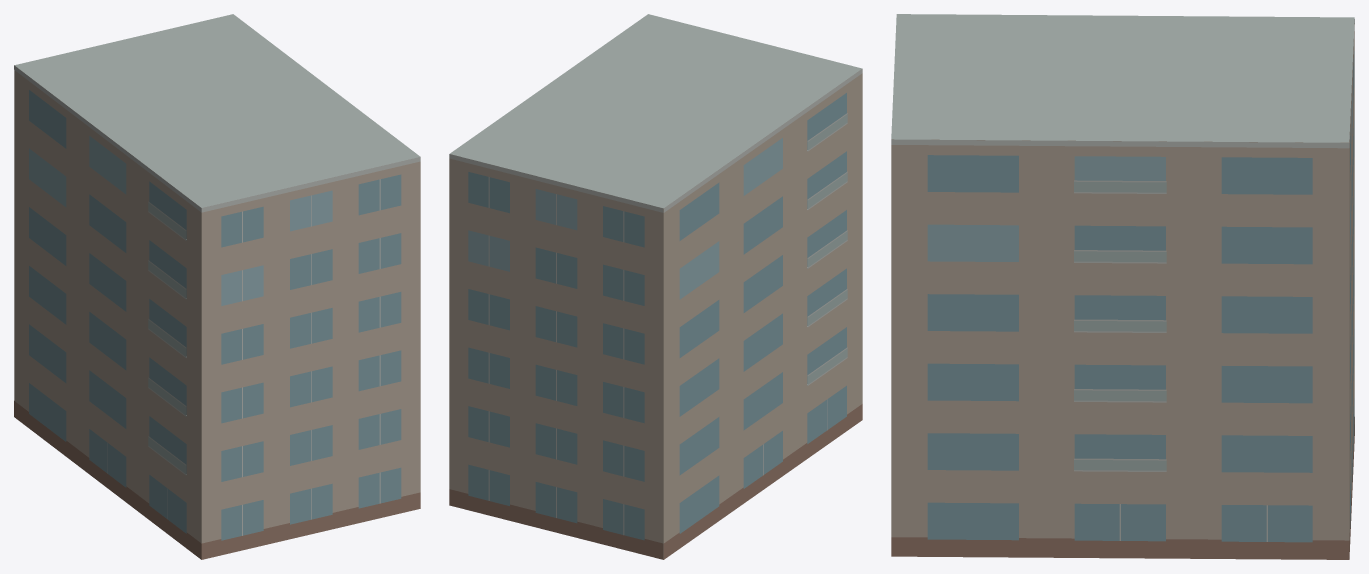
The model's file is survey-upis-33030506.glb.
The picture shows the model from 3 angles, left to right: view 1: azimuth 30°, elevation 25°; view 2: azimuth 150°, elevation 25°; view 3: azimuth 270°, elevation 25°; orthographic projection. The views are drawn at different scales.
Parts seen in each view (by area): view 1: survey-upis-33030506.tmp; view 2: survey-upis-33030506.tmp; view 3: survey-upis-33030506.tmp.
Part boxes in pixels (x1,y1,x2,y2): survey-upis-33030506.tmp: (14, 14, 420, 559); survey-upis-33030506.tmp: (449, 14, 862, 559); survey-upis-33030506.tmp: (891, 14, 1354, 559).
Size of the model in its own units: 12.4 by 18.7 by 18.85.
